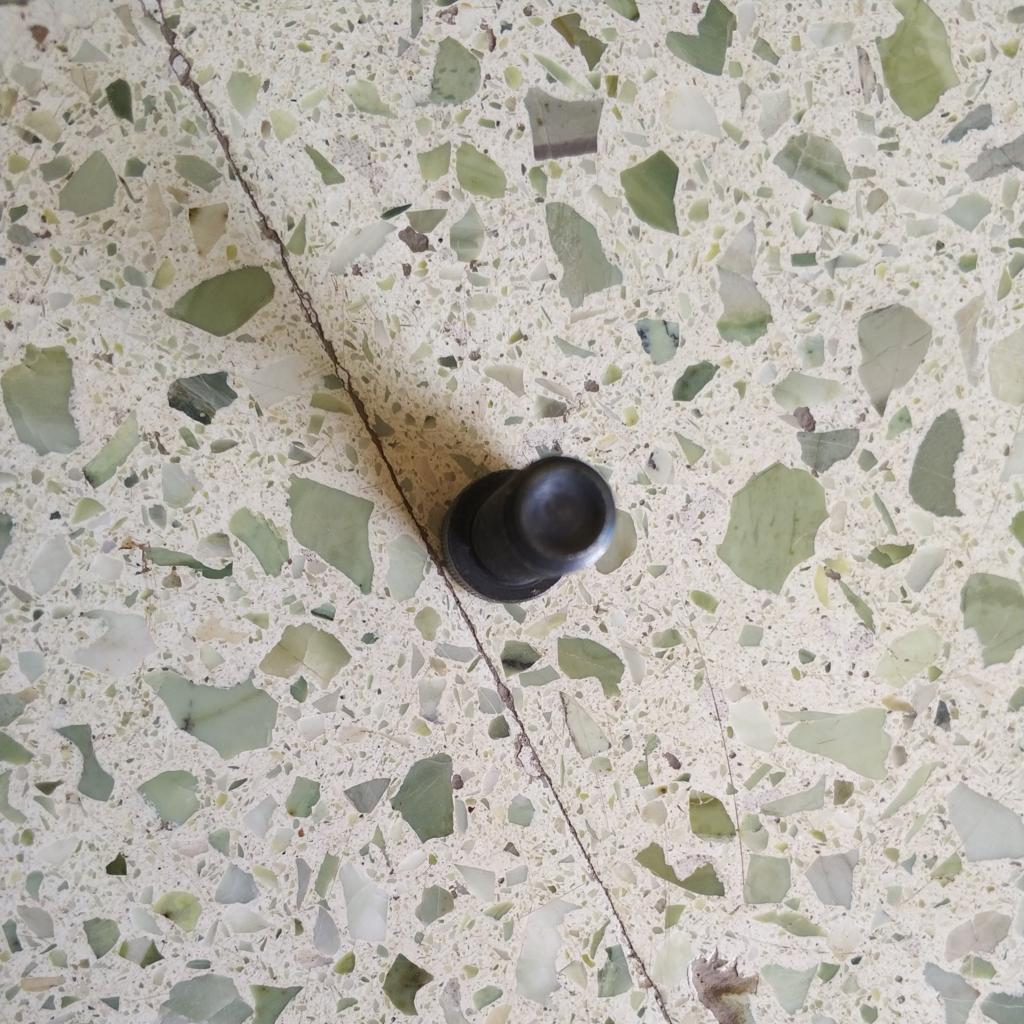screwtype1black: (434, 452, 618, 610)
